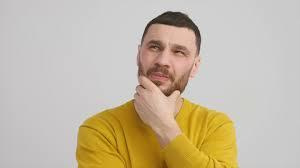Persons: (129, 10, 207, 112)
